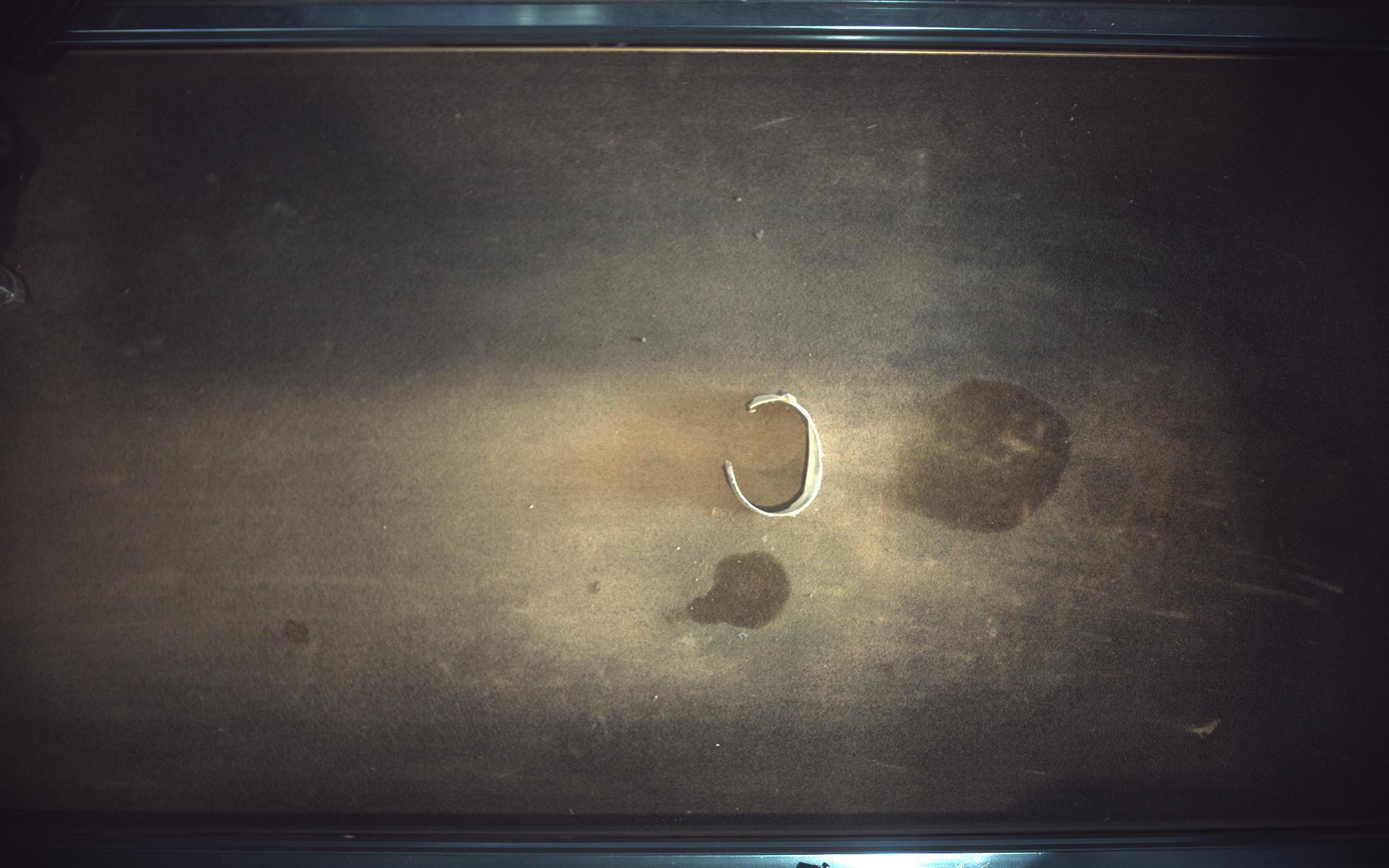plastic: (724, 392, 824, 517)
